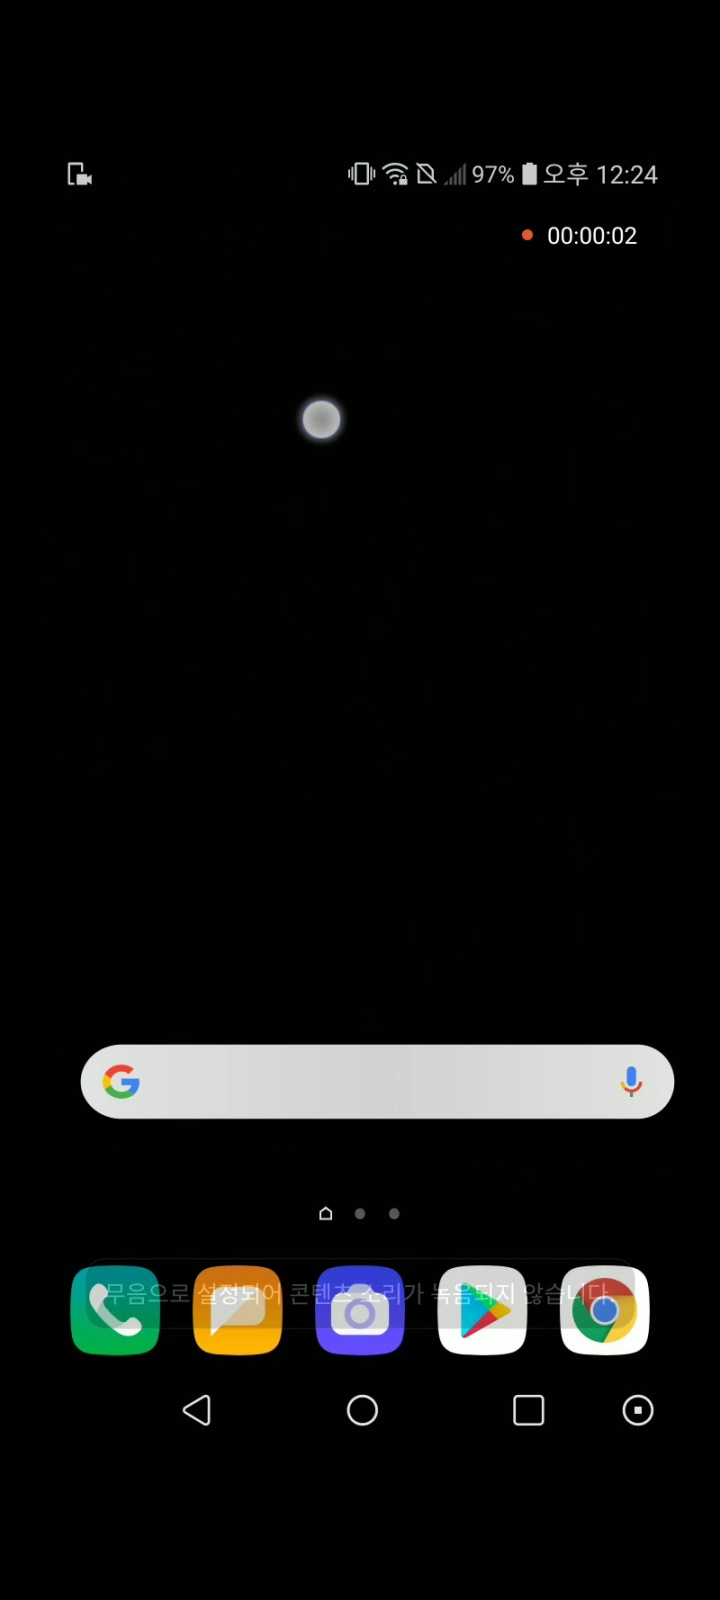Cursor: (298, 396, 343, 441)
